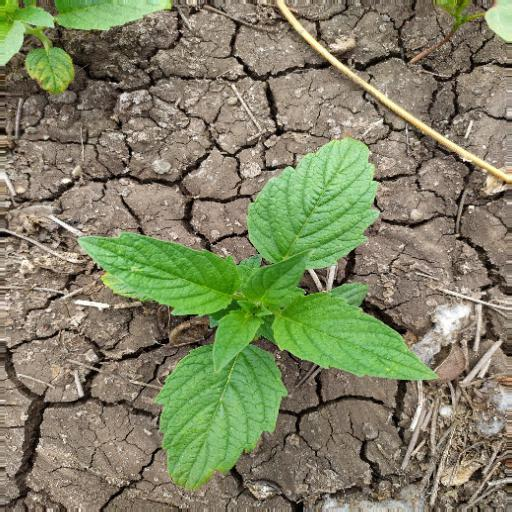crop: (74, 131, 437, 496)
